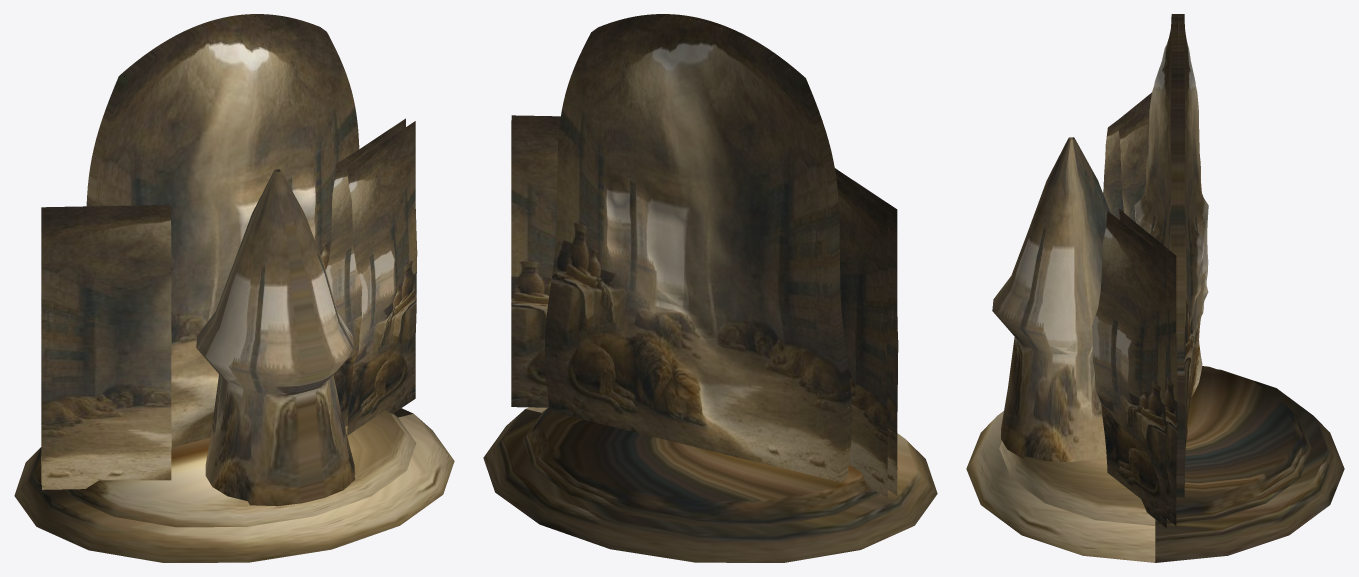
The model's file is greatly-beloved-26.glb.
3 renders of one model, left to right at view 1: azimuth 30°, elevation 25°; view 2: azimuth 150°, elevation 25°; view 3: azimuth 270°, elevation 25°, orthographic. The views are drawn at different scales.
Parts seen in each view (by area): view 1: PaintingSculptureMonument; view 2: PaintingSculptureMonument; view 3: PaintingSculptureMonument.
Boxes of the visible parts, bbox=[...] form: PaintingSculptureMonument: bbox=[14, 14, 454, 562]; PaintingSculptureMonument: bbox=[483, 14, 937, 562]; PaintingSculptureMonument: bbox=[966, 14, 1344, 562].
Bounding box in the file's own units: 2.76 × 2.99 × 2.35.
1 material, 1 textured.
